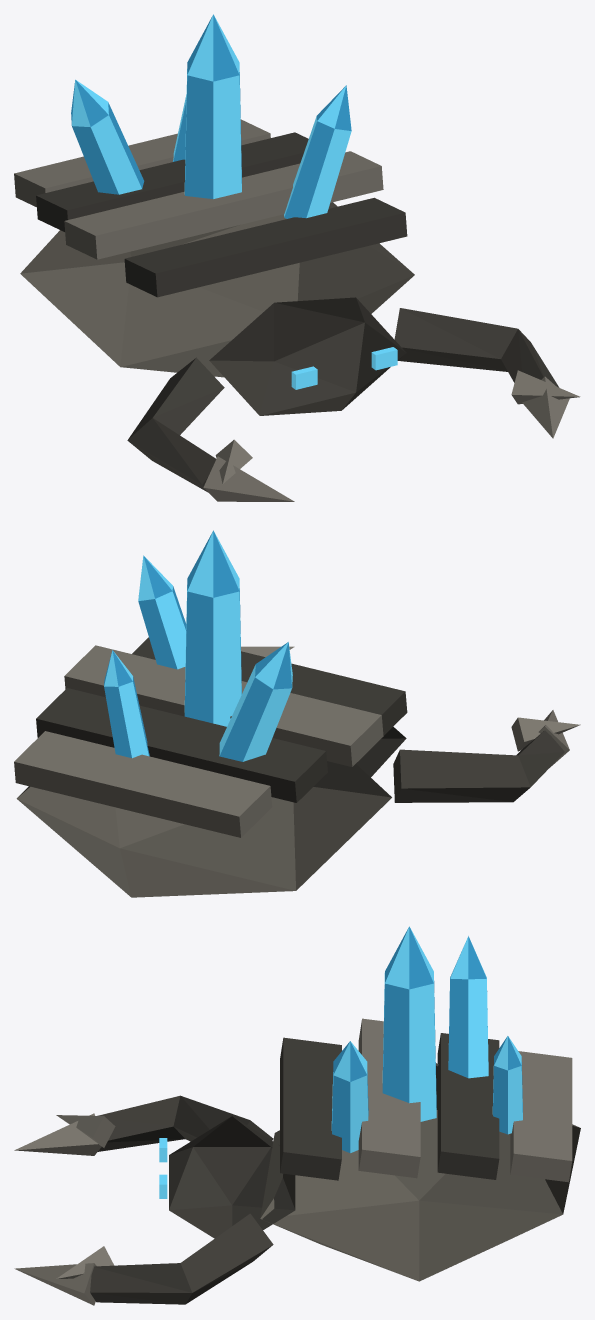
File: dk_mob_crawler.glb
The picture shows the model from 3 angles, top to bottom: view 1: azimuth 30°, elevation 25°; view 2: azimuth 150°, elevation 25°; view 3: azimuth 270°, elevation 25°; orthographic projection. The views are drawn at different scales.
Visible parts, largest first — view 1: dk_mob_crawler; view 2: dk_mob_crawler; view 3: dk_mob_crawler.
Boxes of the visible parts, <box> form: dk_mob_crawler: <box>14,14,580,501</box>; dk_mob_crawler: <box>14,530,580,897</box>; dk_mob_crawler: <box>14,926,580,1305</box>.
Size of the model in its own units: 2.22 by 1.77 by 2.88.
2 materials, 2 textured.
